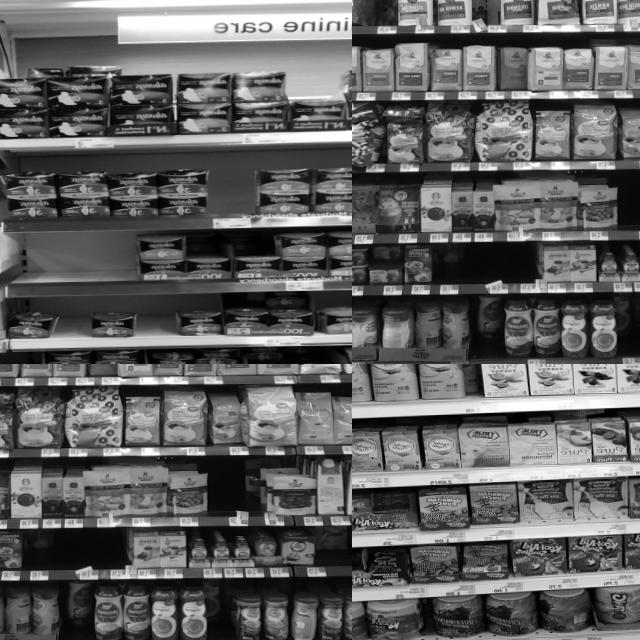100- O.O.S: (27, 232, 134, 296), (208, 153, 250, 228), (467, 242, 509, 293), (57, 528, 99, 579), (210, 459, 241, 525), (136, 296, 174, 346), (59, 297, 92, 348), (620, 173, 640, 239), (512, 244, 534, 292), (102, 530, 124, 578)
